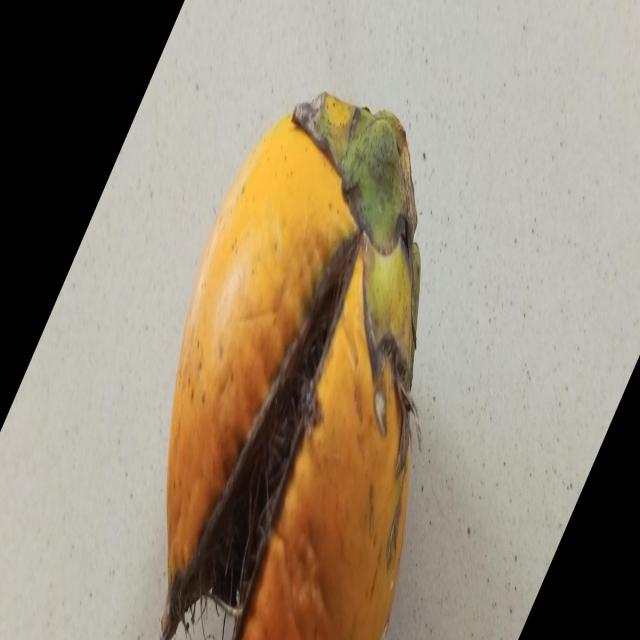damaged: (161, 93, 420, 640)
